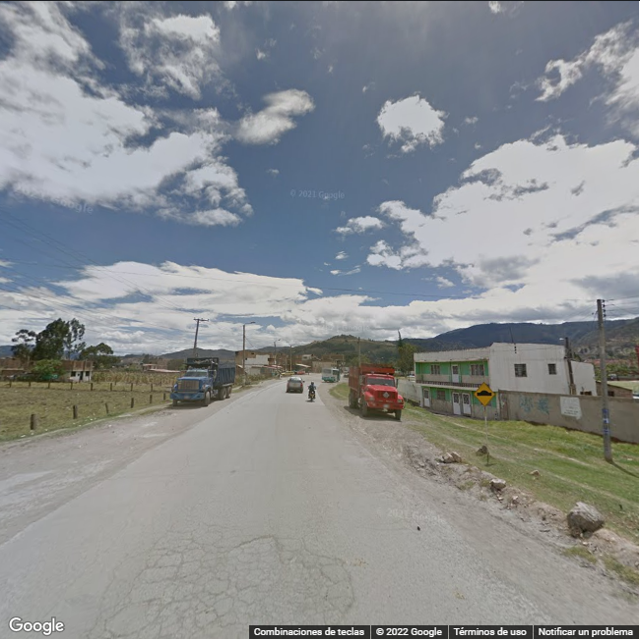D00: (85, 549, 128, 637), (339, 548, 356, 627), (270, 527, 281, 571)
D10: (228, 532, 275, 548)
D20: (141, 532, 257, 636)
